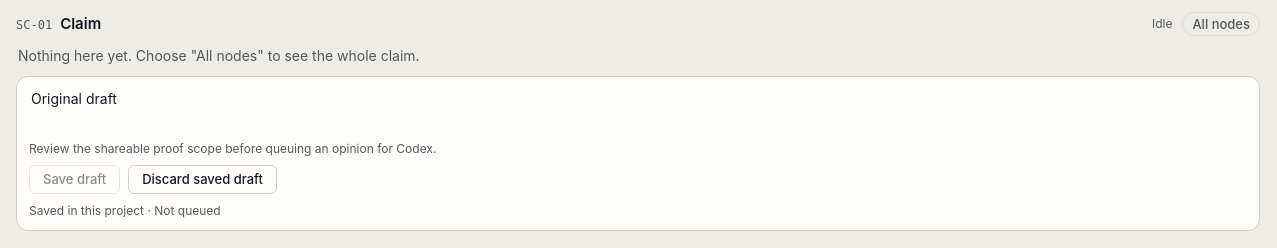
Test: preserves edits after a draft save error and requires an explicit reload after a revision conflict
Check: the text "Saved in this project · Not queued" is shown, box [29, 203, 221, 218]
Replace the text in the text box named "Proof opinion" with "Local unsaved edits" at (638, 110), box [29, 87, 1247, 132]
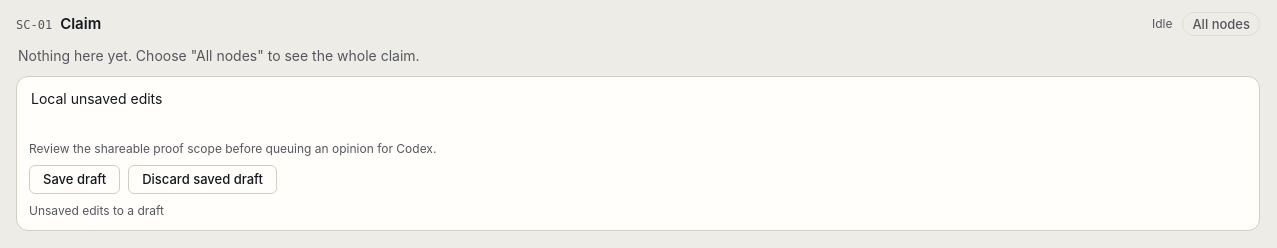
Click the button "Save draft" at (75, 180), box [29, 165, 120, 194]
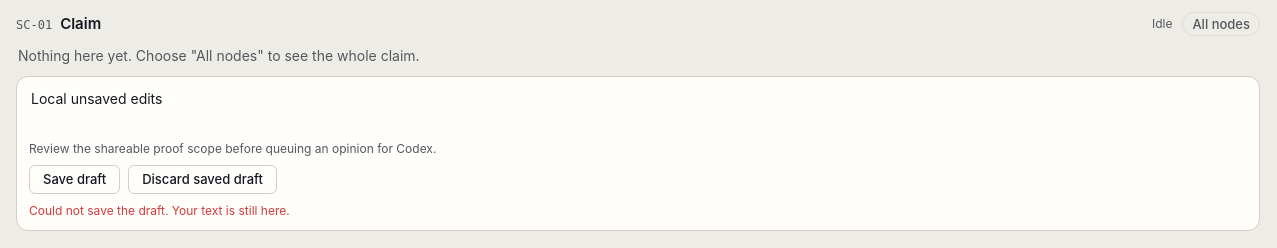
Check: the text "Could not save the draft. Your text is still here." is shown, box [29, 203, 290, 218]
Click the button "Save draft" at (75, 180), box [29, 165, 120, 194]
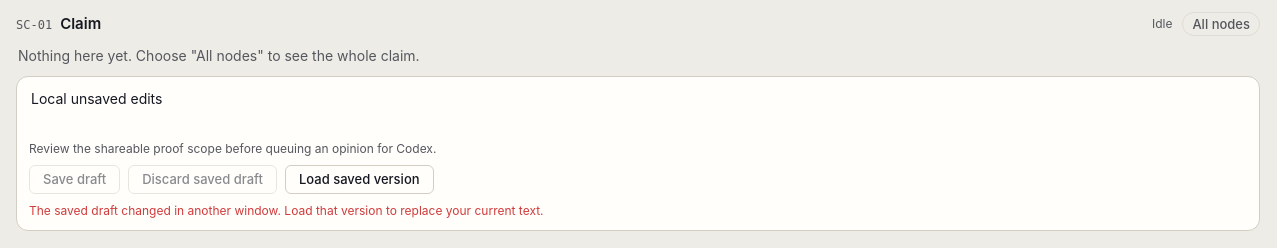
Check: the text "The saved draft changed in another window. Load that version to replace your current text." is shown, box [29, 203, 544, 218]
Check: the button "Save draft" is disabled, box [29, 165, 120, 194]
Click the button "Load saved version" at (359, 180), box [285, 165, 434, 194]
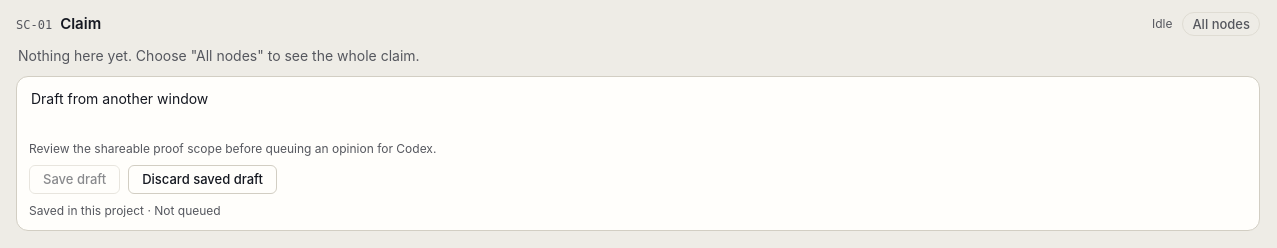
Check: the text "Saved in this project · Not queued" is shown, box [29, 203, 221, 218]
Check: the text box named "Proof opinion" holds "Draft from another window"
Replace the text in the text box named "Proof opinion" with "Keep this local edit" at (638, 110), box [29, 87, 1247, 132]
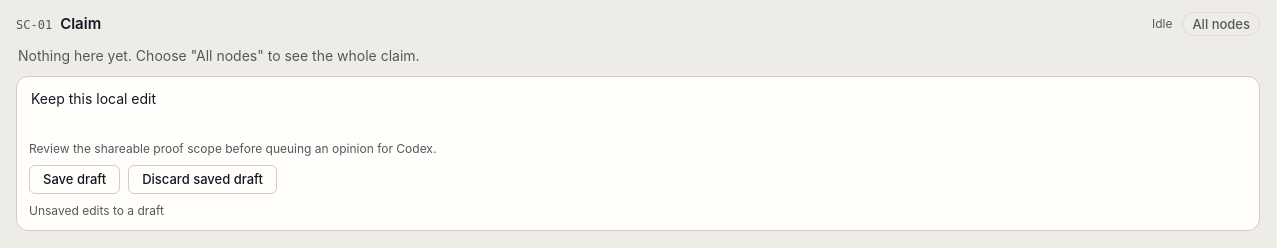
Click the button "Discard saved draft" at (203, 180), box [128, 165, 277, 194]
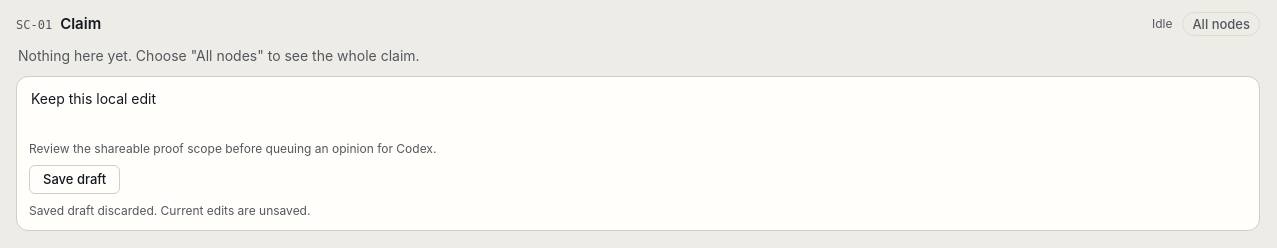
Check: the text "Saved draft discarded. Current edits are unsaved." is shown, box [29, 203, 310, 218]
